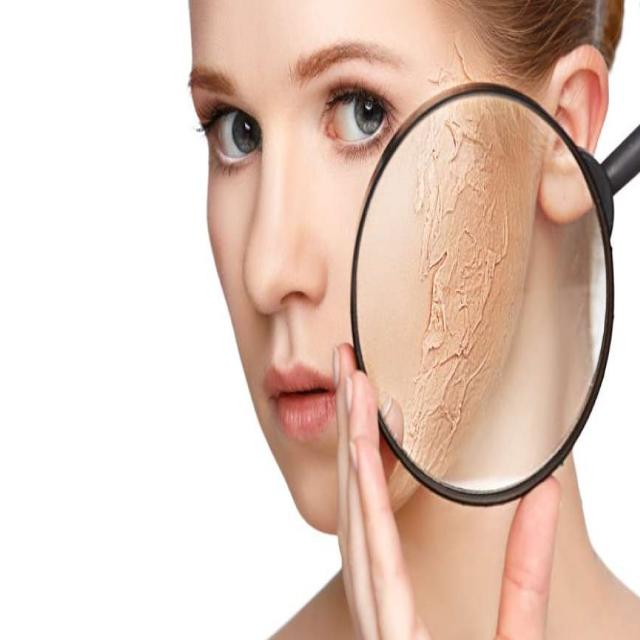Dry-Skin: (400, 34, 539, 533)
